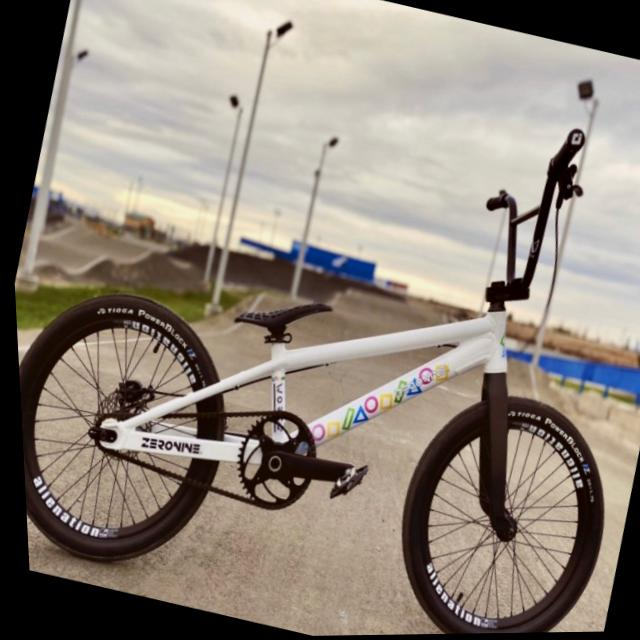bmx-bike: (1, 7, 640, 640)
